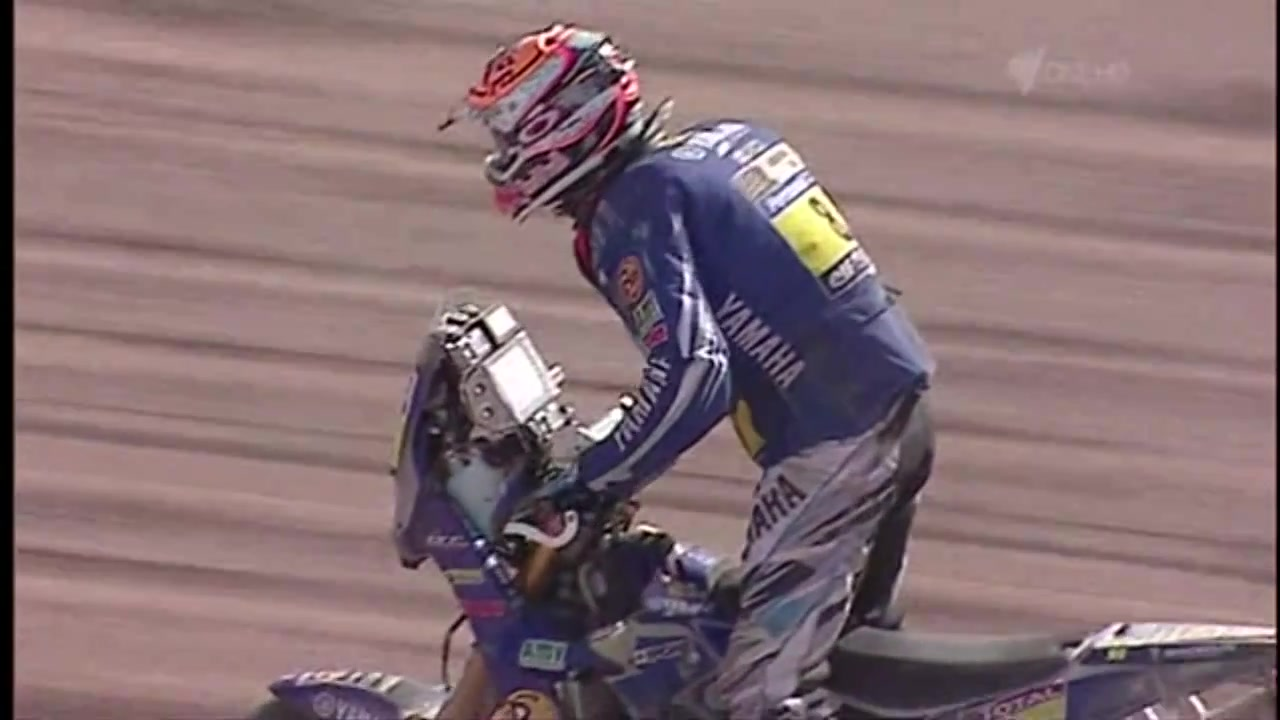motorbike: (243, 292, 1279, 720)
